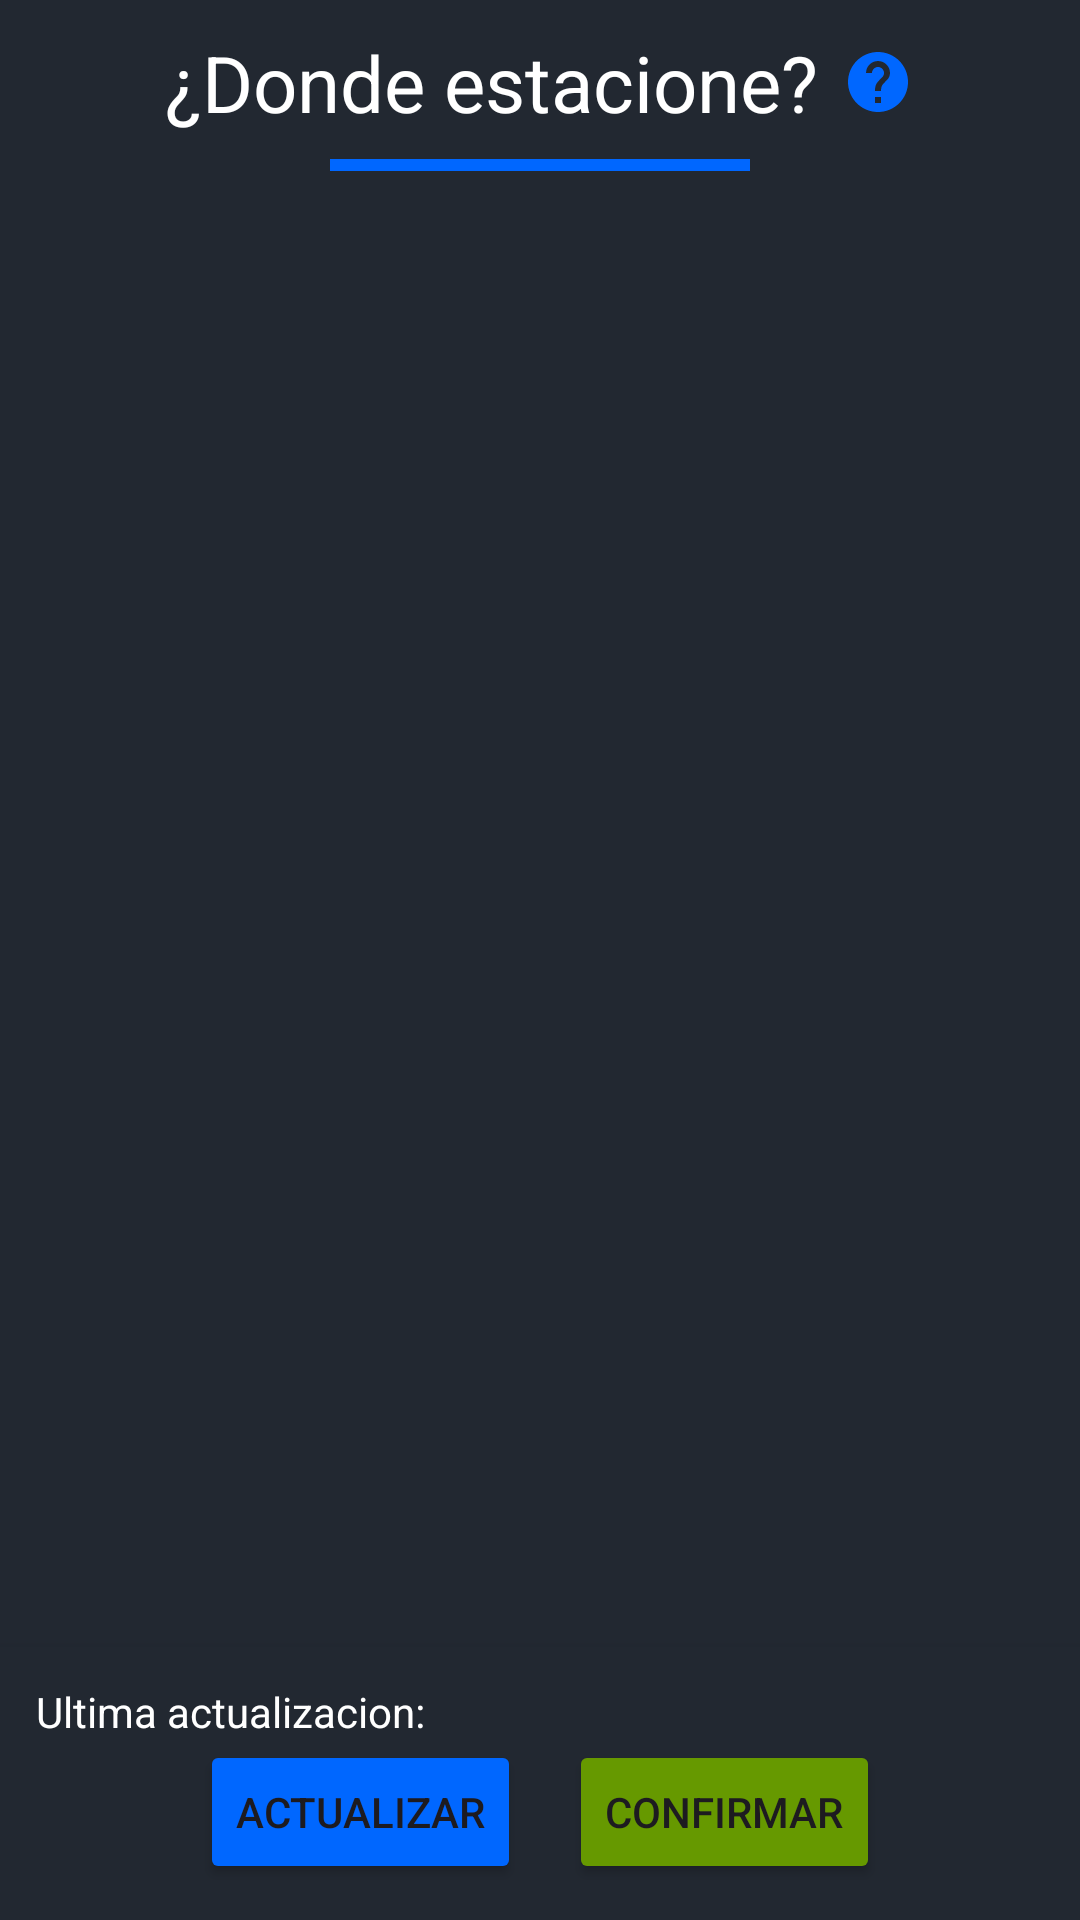

Screen size 1080w x 1920h. Icon name, then its box in pixels as (x1, y1, x2, y2):
help: (848, 52, 908, 112)
